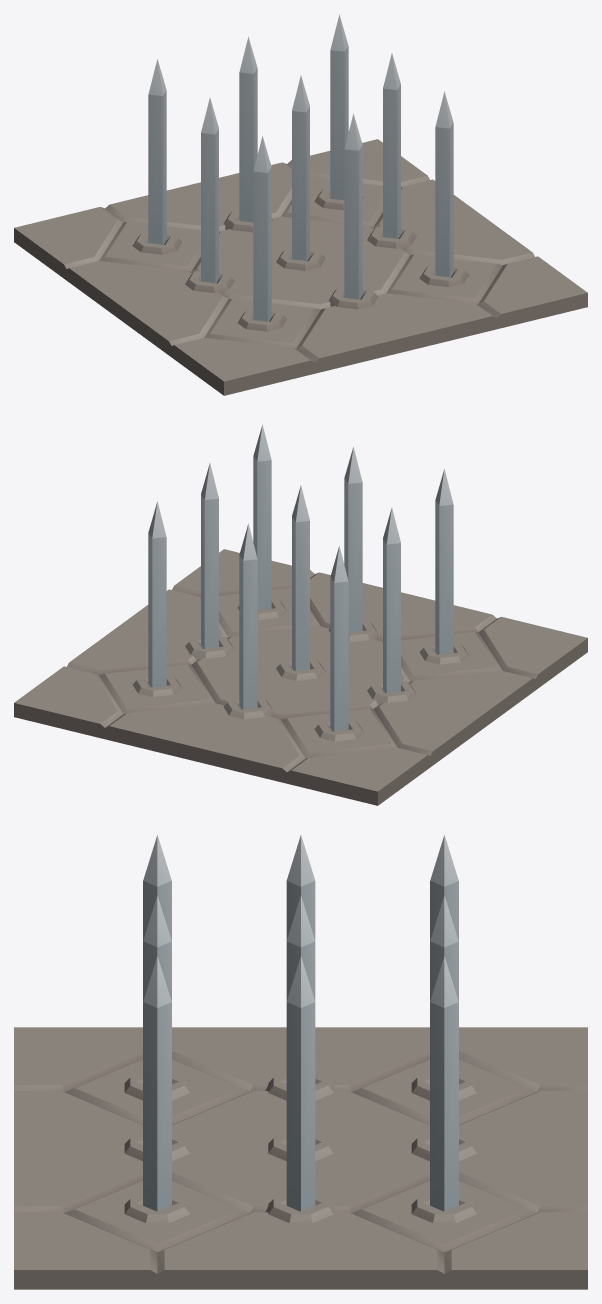
File: dungeon-floor-spikes.glb
3 views of the same model, one above another, from view 1: azimuth 30°, elevation 25°; view 2: azimuth 150°, elevation 25°; view 3: azimuth 270°, elevation 25° (orthographic). The views are drawn at different scales.
Visible parts, largest first — view 1: dungeon-floor-spikes; view 2: dungeon-floor-spikes; view 3: dungeon-floor-spikes.
Boxes of the visible parts, x1,y1,x2,y2 form: dungeon-floor-spikes: (14,14,587,395); dungeon-floor-spikes: (14,424,587,805); dungeon-floor-spikes: (14,835,587,1289).
Size of the model in its own units: 3 by 1.57 by 3.
1 material, 1 textured.
